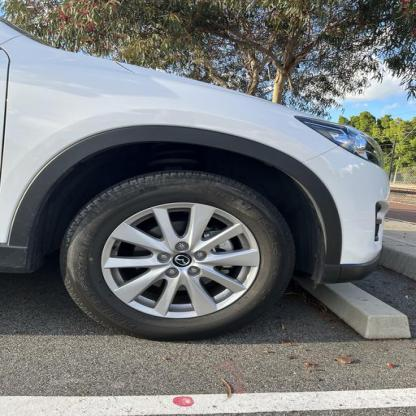Tire: (42, 157, 298, 344)
